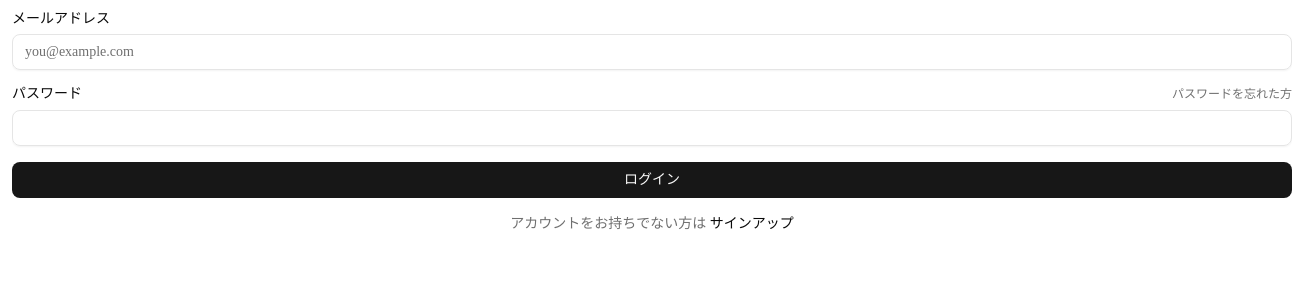
LoginForm › バリデーションに失敗した入力を Server Action へ送らない
The image size is (1304, 295).
Click the button "ログイン". click: x=652, y=180
box: [12,162,1292,198]
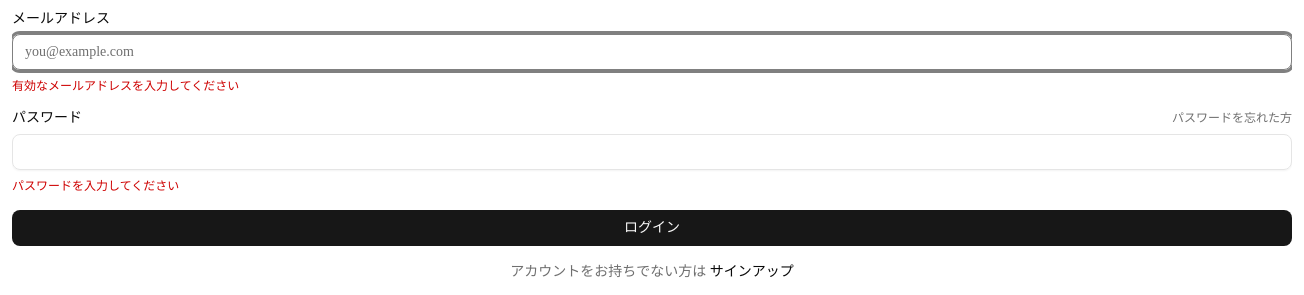
Expected: the text "有効なメールアドレスを入力してください" is shown, [12,79,239,93]
